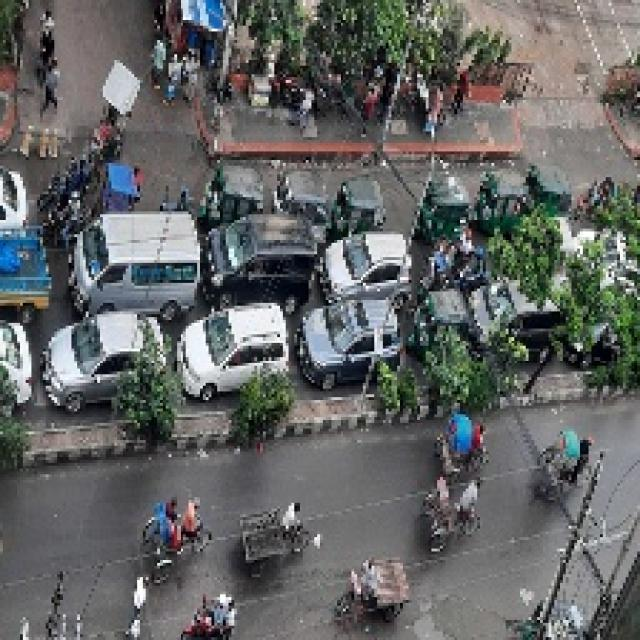bike: (461, 252, 495, 281)
car: (62, 205, 207, 312), (44, 303, 164, 415), (199, 211, 323, 300), (181, 300, 289, 401), (317, 223, 417, 307), (302, 304, 399, 377), (469, 283, 561, 350)
rickshaw: (328, 559, 417, 622), (238, 502, 312, 574), (144, 500, 208, 583), (417, 480, 484, 555), (539, 434, 596, 496), (431, 418, 495, 473), (415, 239, 456, 298)
